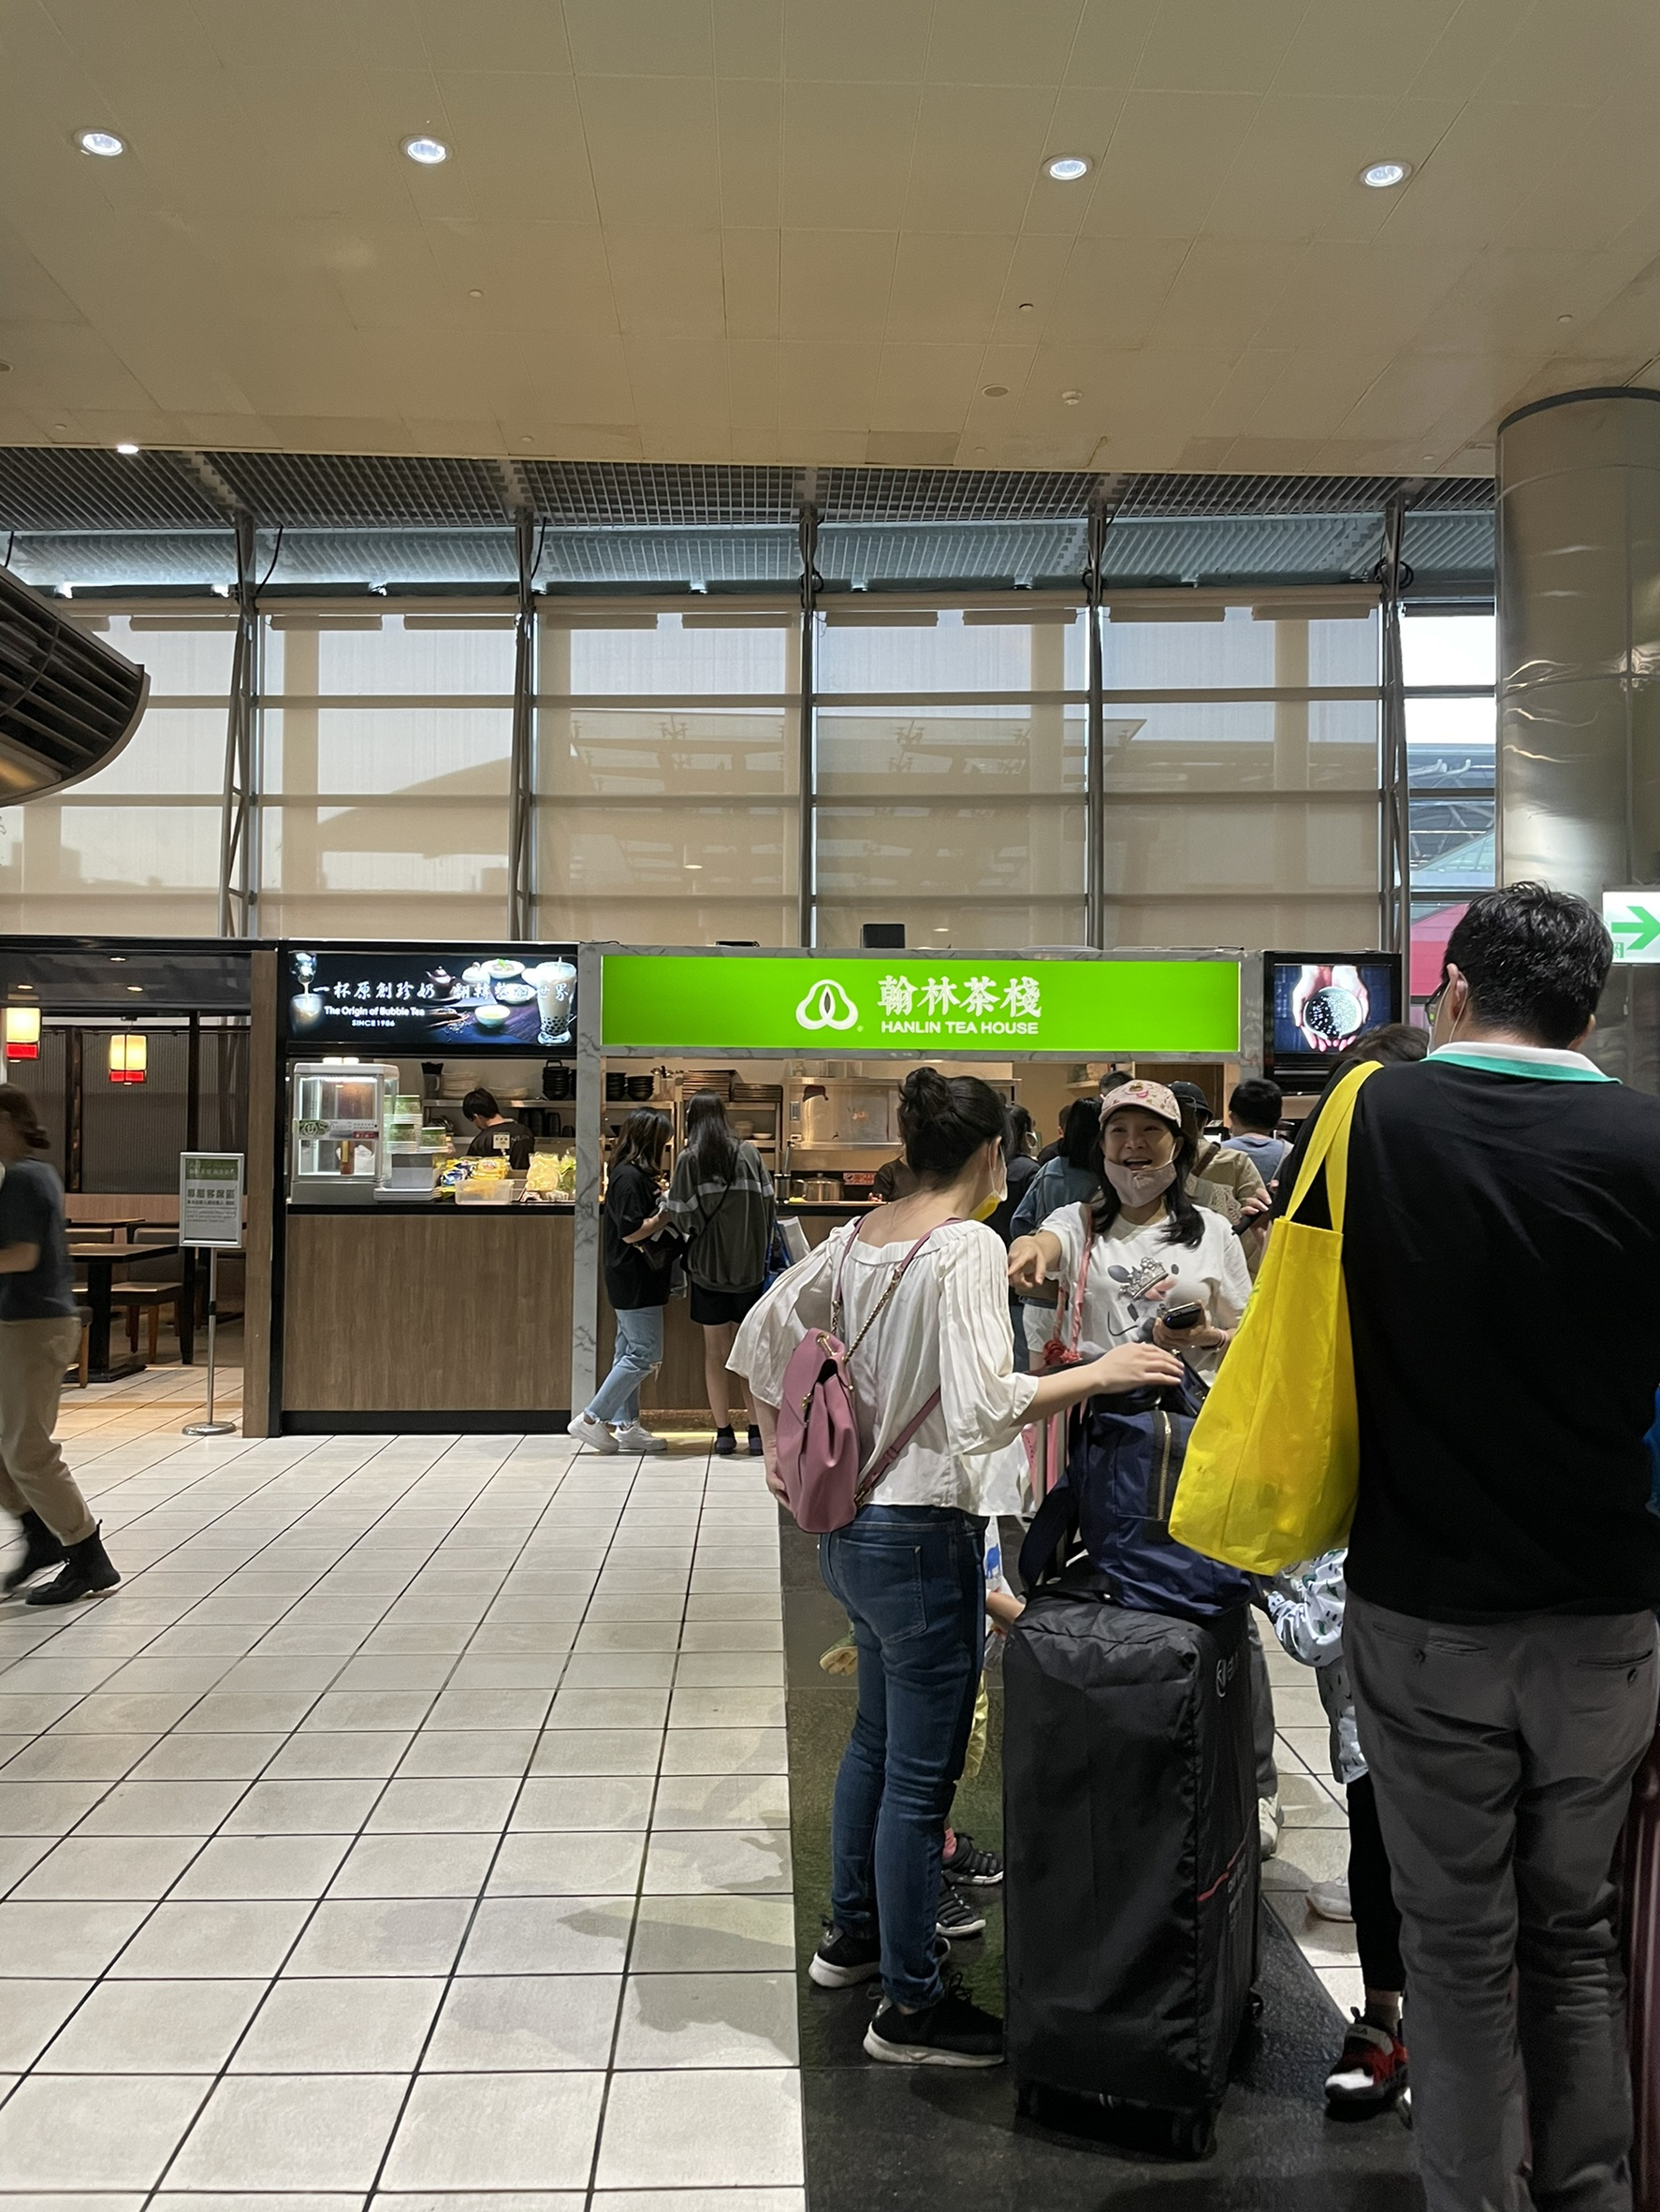people: (1263, 877, 1660, 2212), (731, 1074, 1061, 2068), (1018, 1085, 1260, 1967), (4, 1082, 129, 1611), (673, 1085, 792, 1463), (575, 1111, 673, 1456), (1029, 1093, 1115, 1345), (1213, 1085, 1310, 1237)
